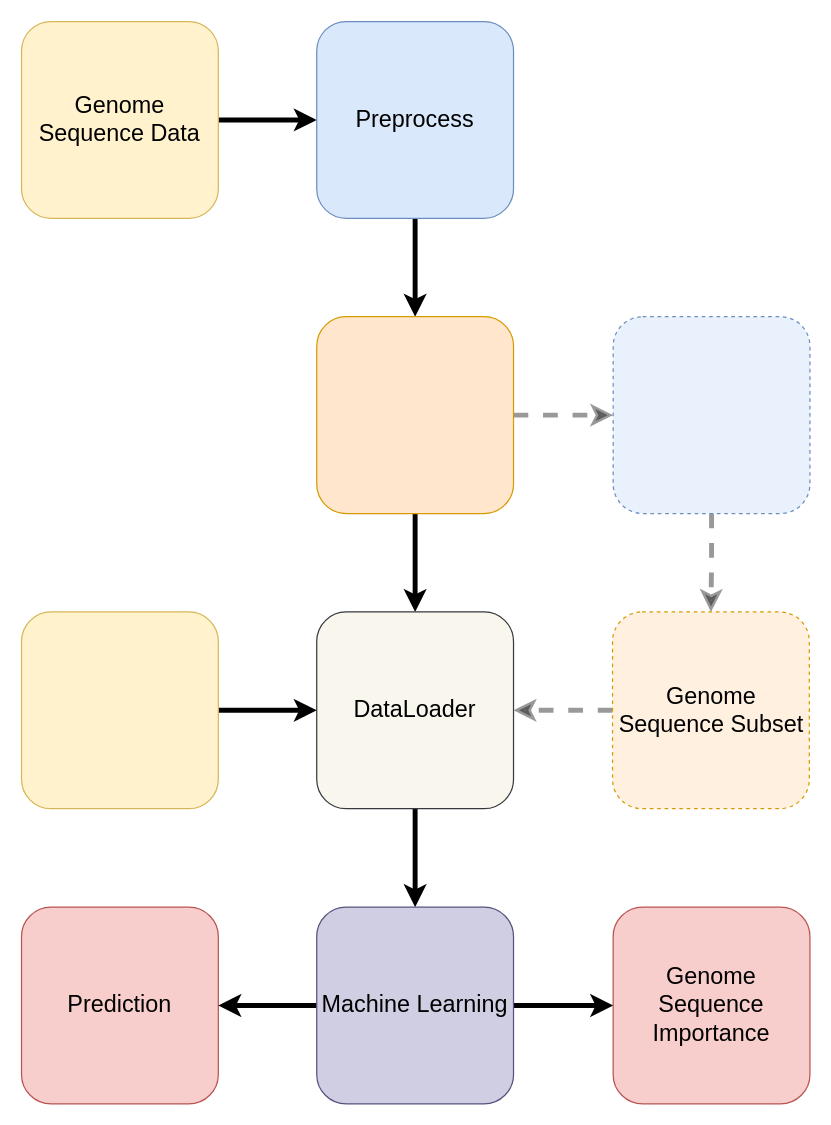
Image size: 831x1125. Some labels were removed from this diagram. Here are the shapes that lost their labels. From the top down, the centre of each, then its label:
the point at 414,414: NPZ Genome Sequence Data
the point at 711,414: Genome Sequence Selection
the point at 119,710: Meta Data
